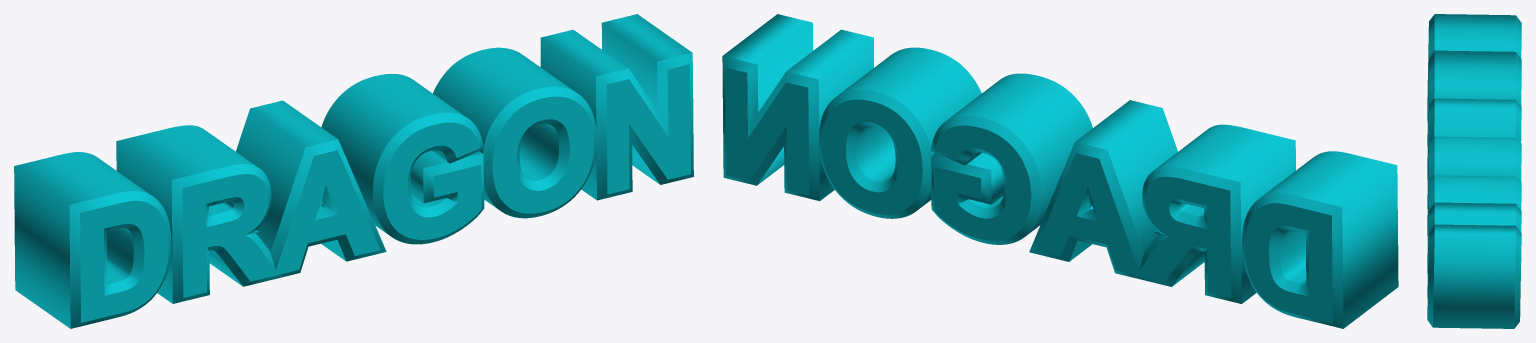
The model's file is DRAGON.fbx.
The picture shows the model from 3 angles, left to right: view 1: azimuth 30°, elevation 25°; view 2: azimuth 150°, elevation 25°; view 3: azimuth 270°, elevation 25°; orthographic projection. The views are drawn at different scales.
Parts seen in each view (by area): view 1: Text; view 2: Text; view 3: Text.
Boxes of the visible parts, left/top/right/bottom form: Text: left=14, top=14, right=693, bottom=328; Text: left=722, top=14, right=1398, bottom=328; Text: left=1427, top=14, right=1521, bottom=328.
Bounding box in the file's own units: 3.08 × 0.6068 × 0.5489.
